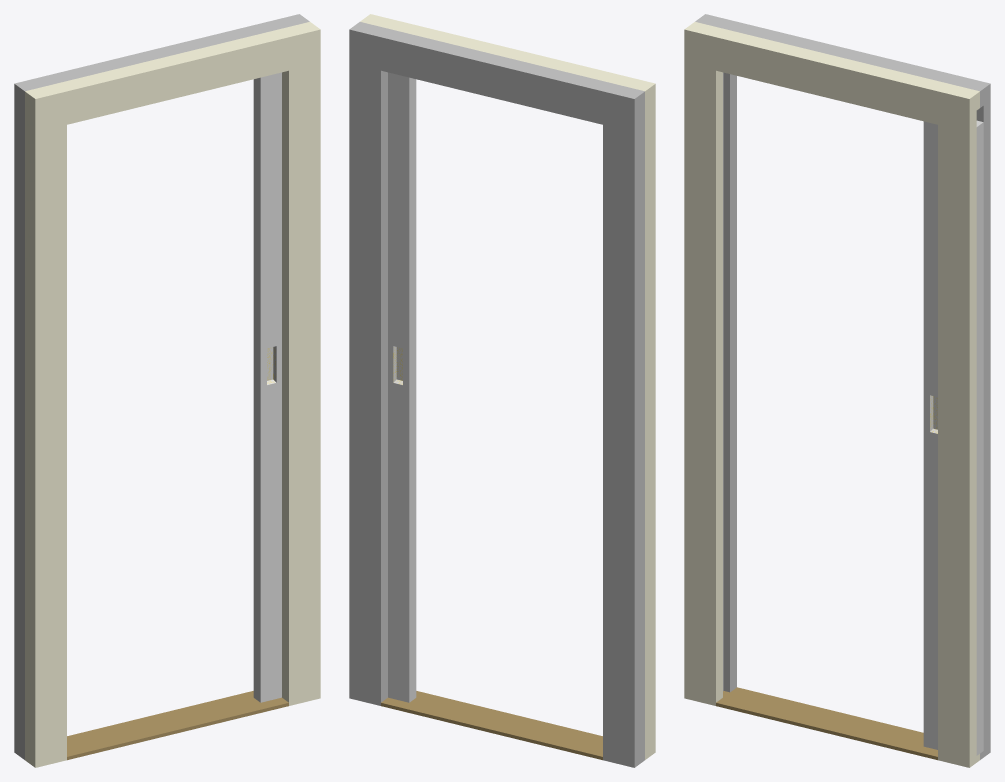
Rendered from sliderPocketDoor.obj.
3 renders of one model, left to right at view 1: azimuth 30°, elevation 25°; view 2: azimuth 150°, elevation 25°; view 3: azimuth 330°, elevation 25°, orthographic.
Visible parts, largest first — view 1: 2_2_5_5, 4_4_1_1, 1_1_2_2, 3_3_3_3; view 2: 1_1_2_2, 4_4_1_1, 2_2_5_5, 3_3_3_3; view 3: 2_2_5_5, 1_1_2_2, 4_4_1_1, 3_3_3_3.
Part boxes in pixels (<box>): 2_2_5_5: <box>25,22,320,767</box>; 4_4_1_1: <box>253,72,281,702</box>; 1_1_2_2: <box>14,14,309,759</box>; 3_3_3_3: <box>67,691,288,760</box>; 1_1_2_2: <box>349,22,644,767</box>; 4_4_1_1: <box>388,72,416,702</box>; 2_2_5_5: <box>360,14,655,759</box>; 3_3_3_3: <box>381,691,602,760</box>; 2_2_5_5: <box>684,22,979,767</box>; 1_1_2_2: <box>695,14,990,759</box>; 4_4_1_1: <box>923,120,983,755</box>; 3_3_3_3: <box>716,687,937,760</box>.
Bounding box in the file's own units: 94.84 × 212 × 12.2.
